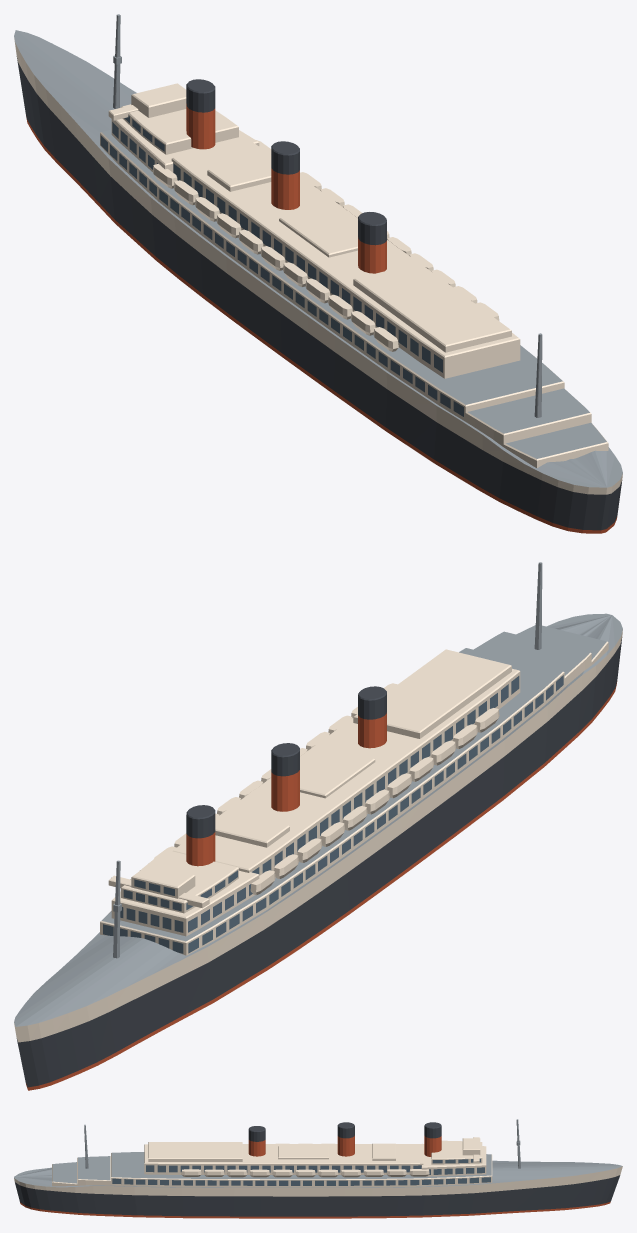
The model's file is la-queen-mary.glb.
3 renders of one model, top to bottom at view 1: azimuth 30°, elevation 25°; view 2: azimuth 150°, elevation 25°; view 3: azimuth 270°, elevation 25°, orthographic. The views are drawn at different scales.
Parts seen in each view (by area): view 1: RMS Queen Mary; view 2: RMS Queen Mary; view 3: RMS Queen Mary.
Boxes of the visible parts, x1,y1,x2,y2 form: RMS Queen Mary: (14,14,622,533); RMS Queen Mary: (14,562,622,1090); RMS Queen Mary: (14,1119,622,1218).
Bounding box in the file's own units: 36.49 × 47.02 × 310.
